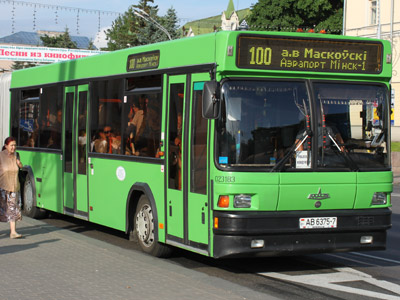bus: (6, 31, 393, 259)
